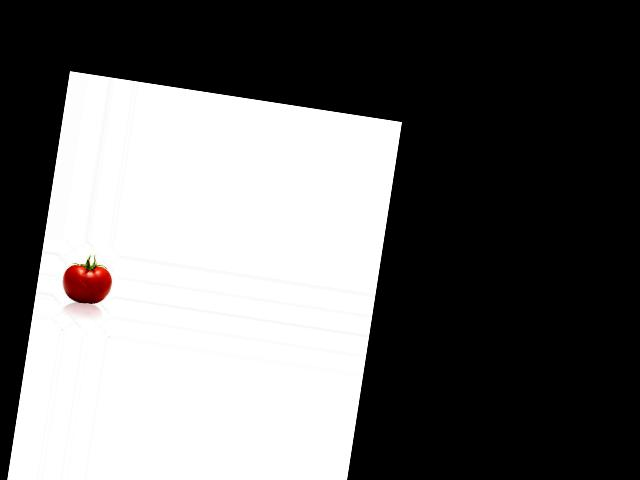tomato: (59, 261, 114, 306)
